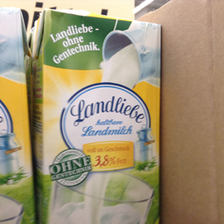milk: (30, 8, 162, 223)
